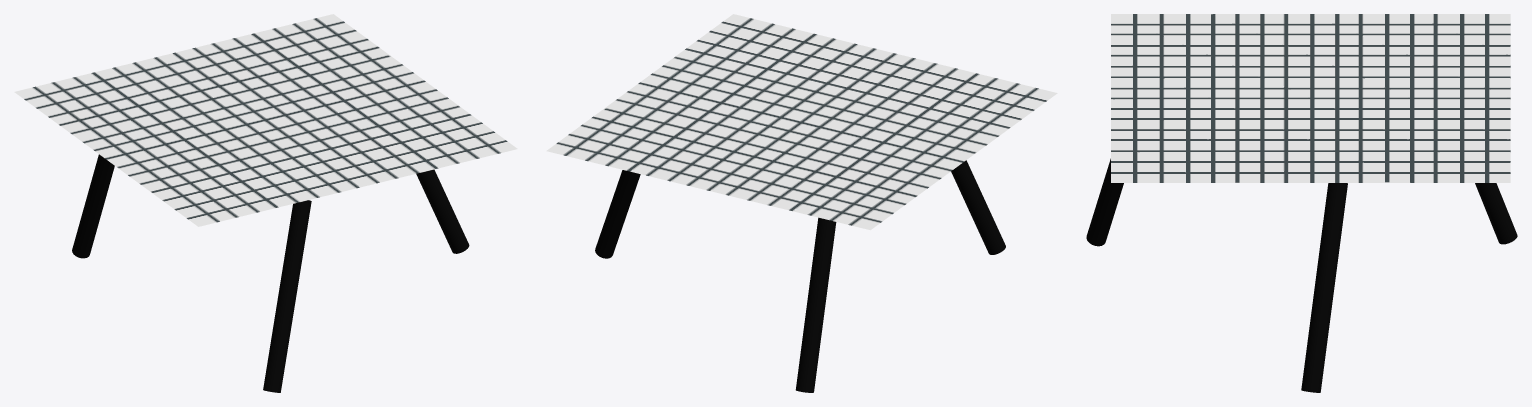
Rendered from ScienceTripod.FBX.
3 views of the same model, side by side, from view 1: azimuth 30°, elevation 25°; view 2: azimuth 150°, elevation 25°; view 3: azimuth 270°, elevation 25° (orthographic). The views are drawn at different scales.
Visible parts, largest first — view 1: Plane001, Cylinder001, Cylinder003, Cylinder002; view 2: Plane001, Cylinder003, Cylinder001, Cylinder002; view 3: Plane001, Cylinder002, Cylinder001, Cylinder003.
Boxes of the visible parts, x1,y1,x2,y2 form: Plane001: (14,14,517,226); Cylinder001: (263,200,311,392); Cylinder003: (72,154,114,258); Cylinder002: (416,169,469,253); Plane001: (546,14,1057,230); Cylinder003: (795,217,836,392); Cylinder001: (951,160,1005,254); Cylinder002: (595,170,640,258); Plane001: (1111,14,1510,182); Cylinder002: (1301,183,1347,392); Cylinder001: (1086,158,1123,246); Cylinder003: (1475,183,1517,244).
Bounding box in the file's own units: 137 × 64.69 × 131.
Materials: 3 (1 with a texture image).
